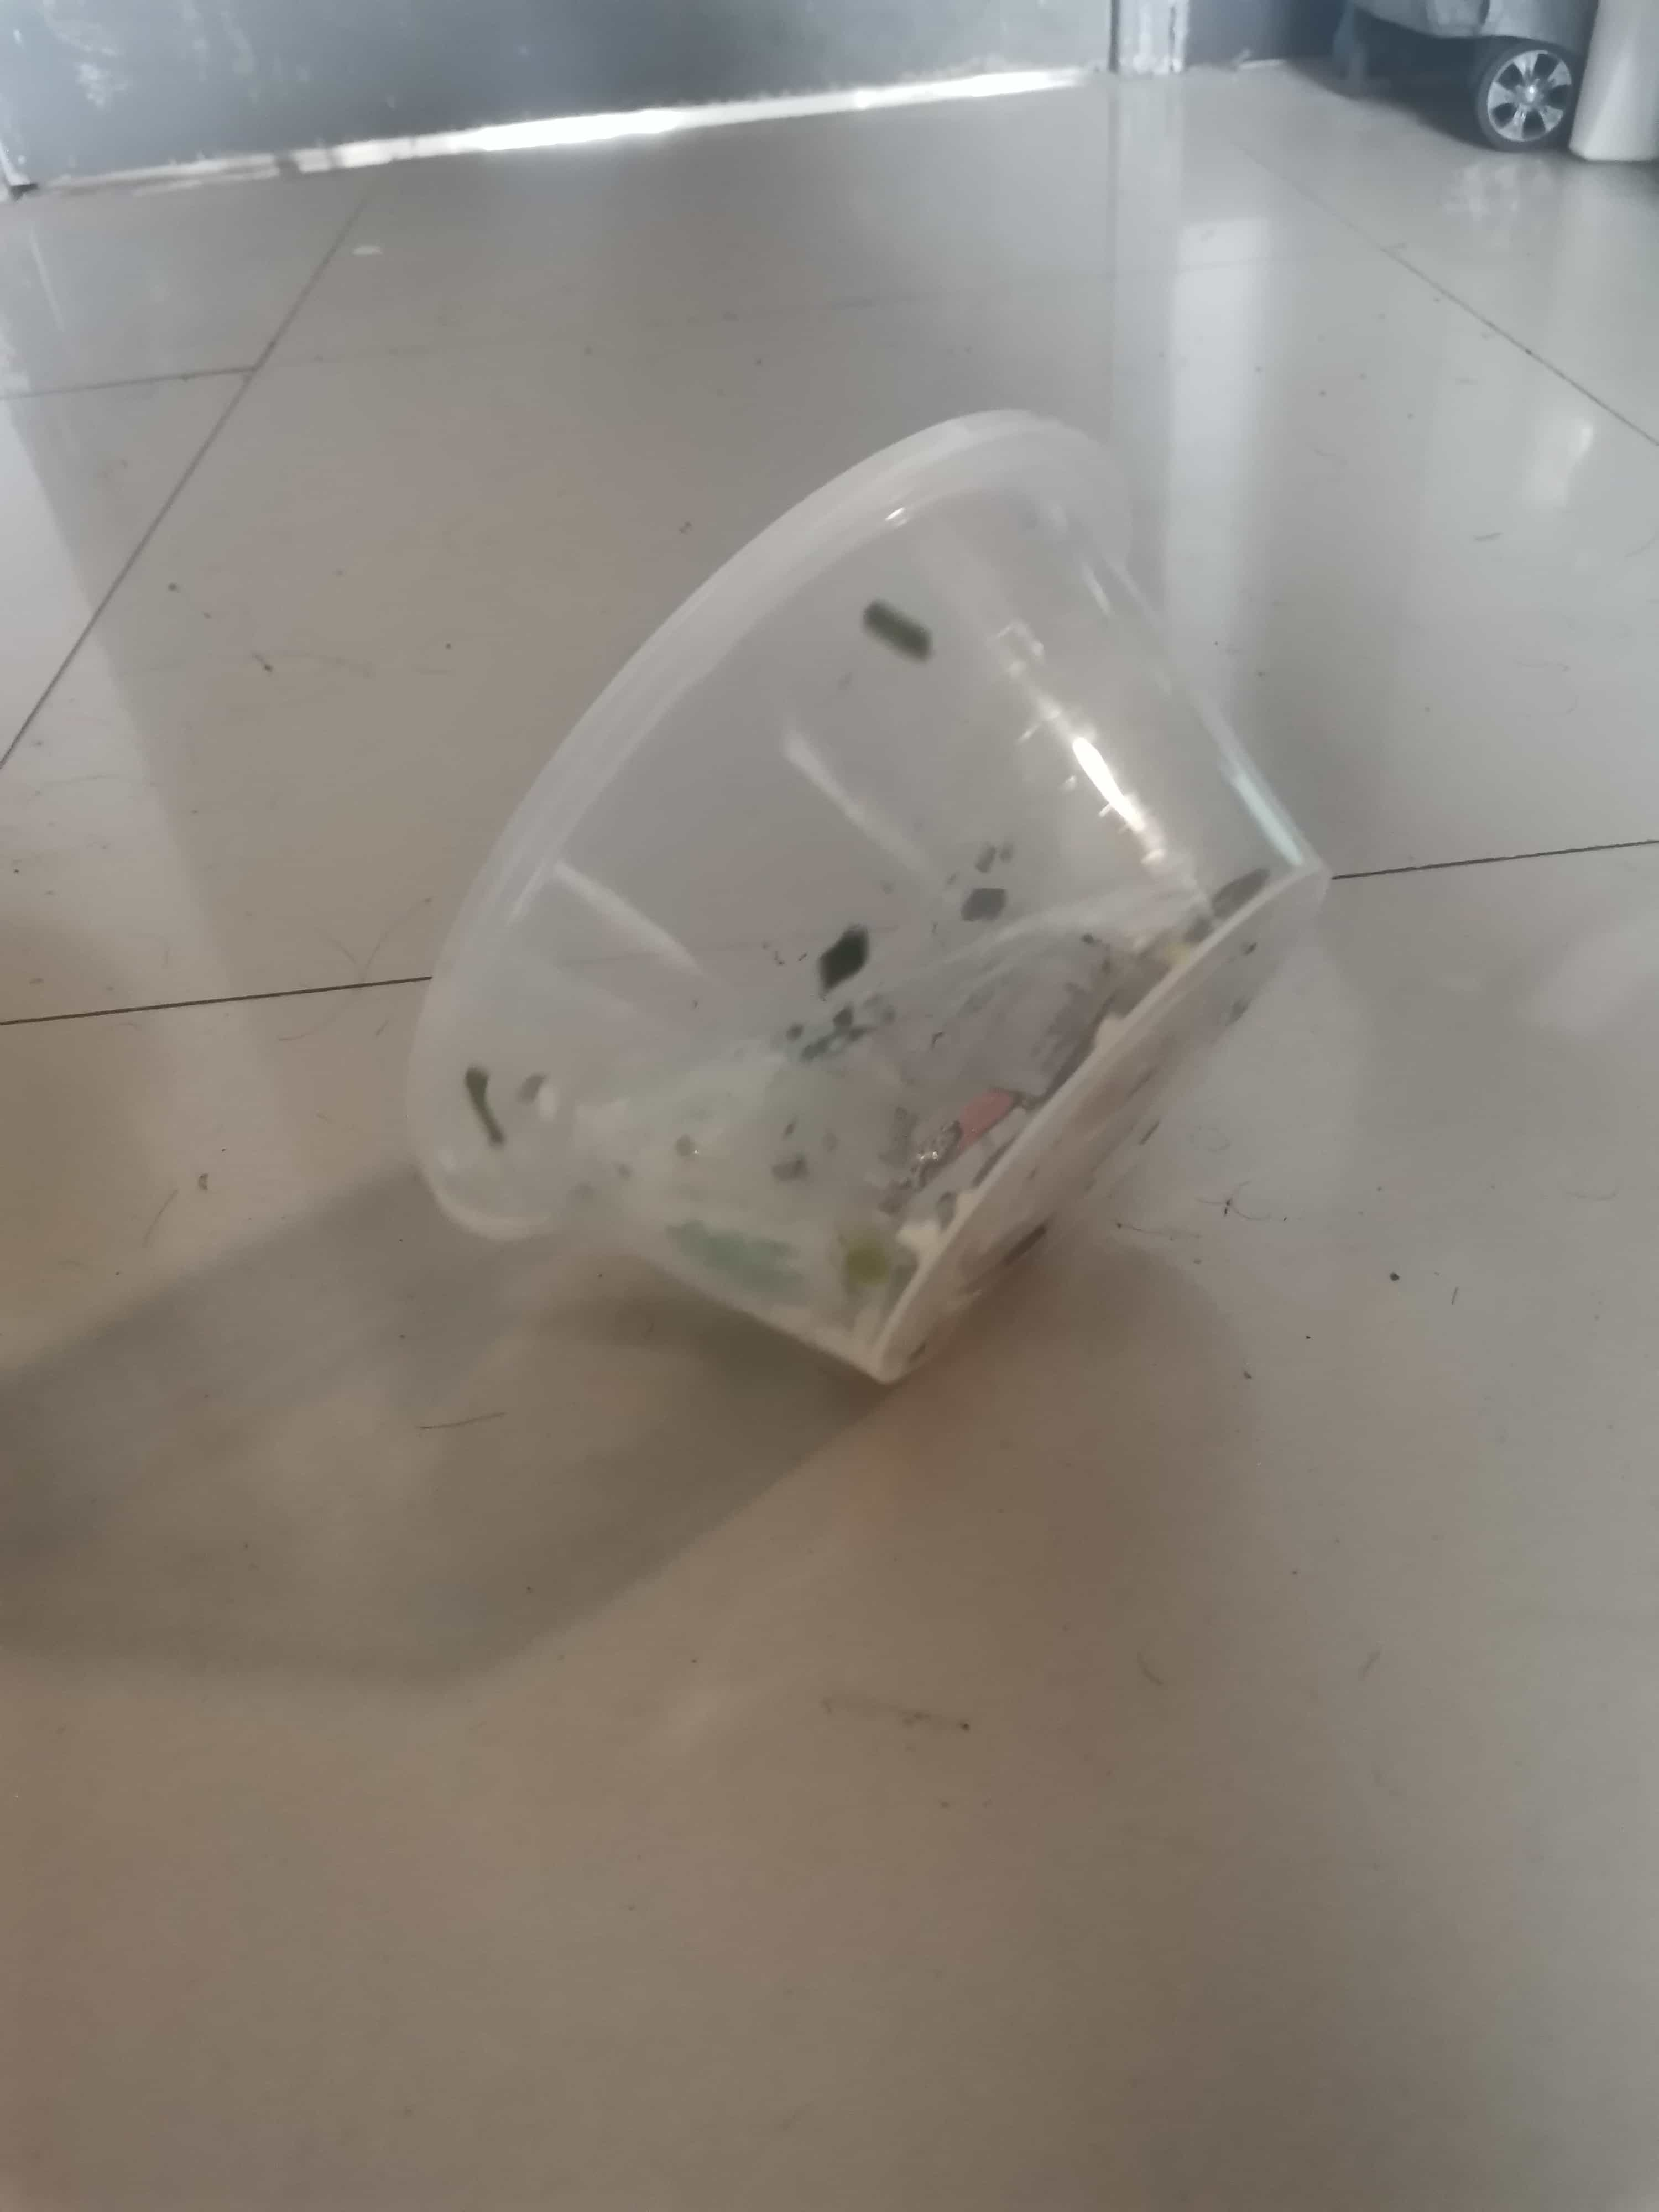fastfood_box: (378, 387, 1347, 1423)
